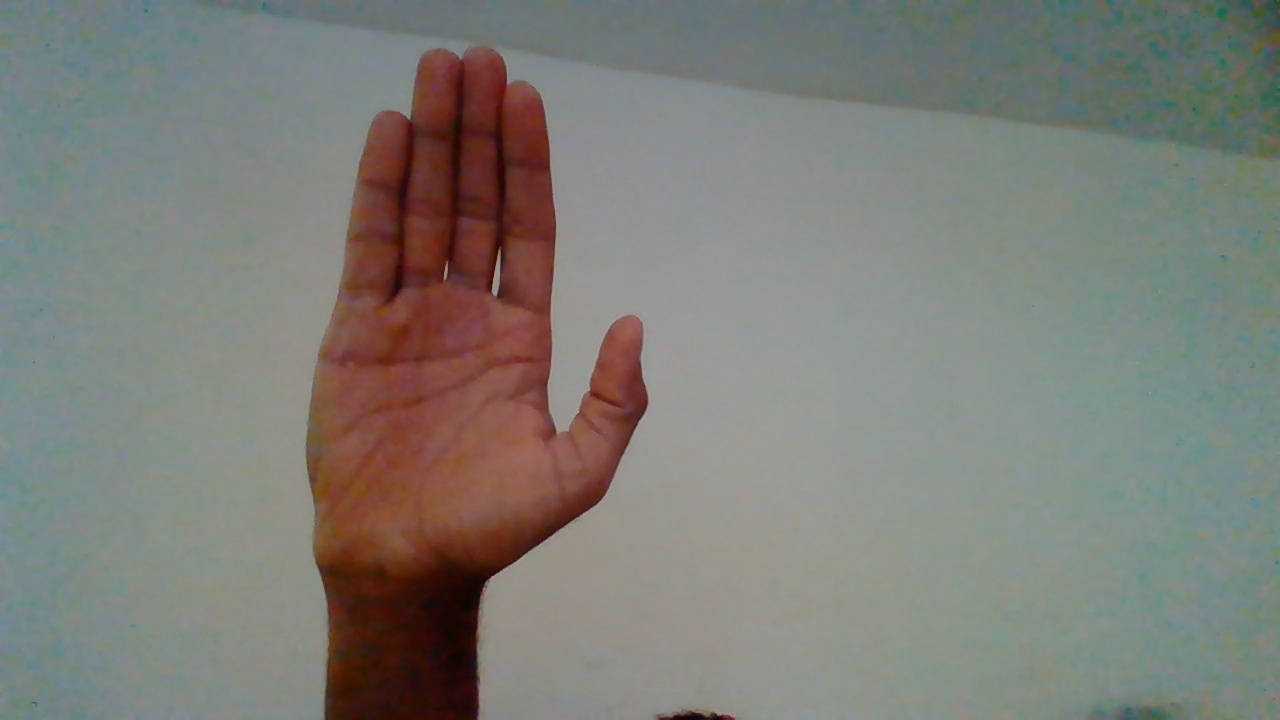ha: (302, 44, 648, 686)
